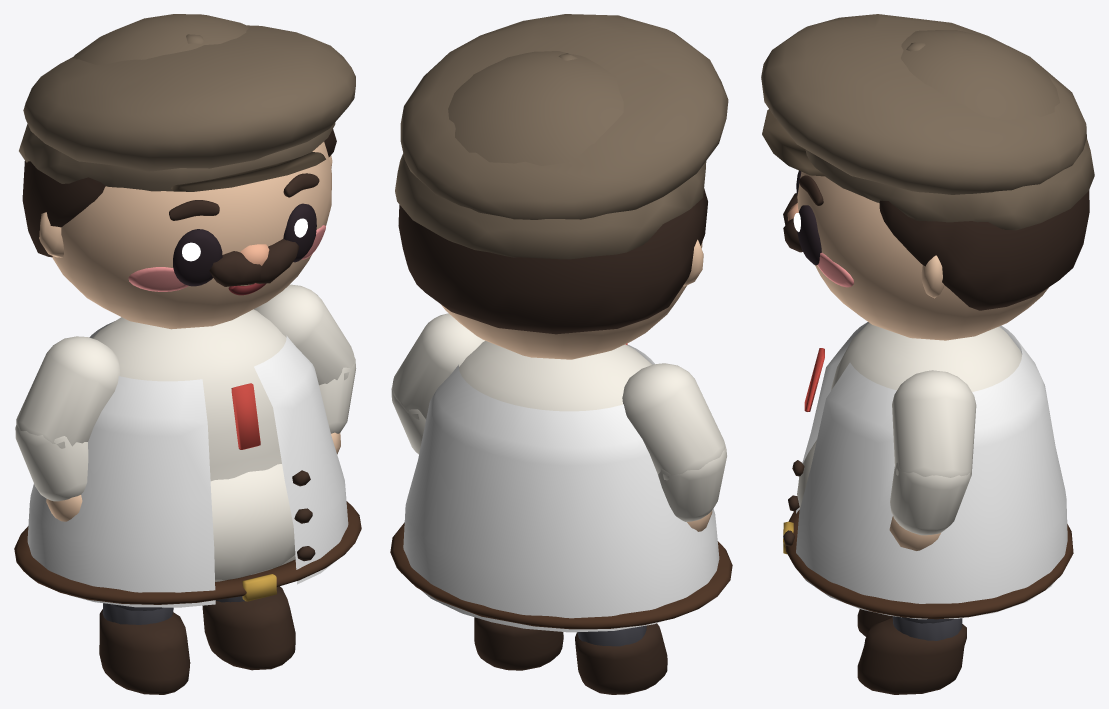
The model's file is npc_uncle.glb.
3 views of the same model, side by side, from view 1: azimuth 30°, elevation 25°; view 2: azimuth 150°, elevation 25°; view 3: azimuth 270°, elevation 25° (orthographic).
Parts seen in each view (by area): view 1: head_body, spine_S_body, uarm_R, knee_R_S_body, knee_L_S_body, uarm_L, farm_R, head_eye_dot, farm_L, head_cheek_blush, head_brow_neutral, hand_R_S_body; view 2: head_body, spine_S_body, uarm_R, knee_R_S_body, uarm_L, knee_L_S_body, farm_R, farm_L; view 3: head_body, spine_S_body, uarm_L, knee_L_S_body, farm_L, head_eye_dot, hand_L_S_body, head_cheek_blush.
Boxes of the visible parts, x1,y1,x2,y2 form: head_body: [19, 14, 355, 329]; spine_S_body: [14, 309, 361, 607]; uarm_R: [16, 336, 120, 448]; knee_R_S_body: [99, 603, 190, 694]; knee_L_S_body: [202, 586, 295, 670]; uarm_L: [254, 284, 354, 385]; farm_R: [15, 425, 88, 501]; head_eye_dot: [173, 203, 316, 286]; farm_L: [319, 357, 356, 433]; head_cheek_blush: [128, 225, 325, 291]; head_brow_neutral: [169, 173, 319, 220]; hand_R_S_body: [46, 495, 82, 521]; head_body: [395, 14, 728, 359]; spine_S_body: [390, 340, 732, 632]; uarm_R: [622, 363, 725, 480]; knee_R_S_body: [575, 623, 667, 694]; uarm_L: [392, 313, 484, 419]; knee_L_S_body: [474, 617, 563, 670]; farm_R: [658, 445, 726, 521]; farm_L: [391, 388, 425, 454]; head_body: [761, 14, 1094, 340]; spine_S_body: [783, 322, 1073, 619]; uarm_L: [892, 370, 976, 477]; knee_L_S_body: [857, 616, 966, 694]; farm_L: [890, 462, 970, 535]; head_eye_dot: [793, 170, 821, 265]; hand_L_S_body: [889, 516, 940, 550]; head_cheek_blush: [817, 252, 853, 287].
Size of what is drawn, in the model's own units: 0.7537 by 1.37 by 0.6725.
